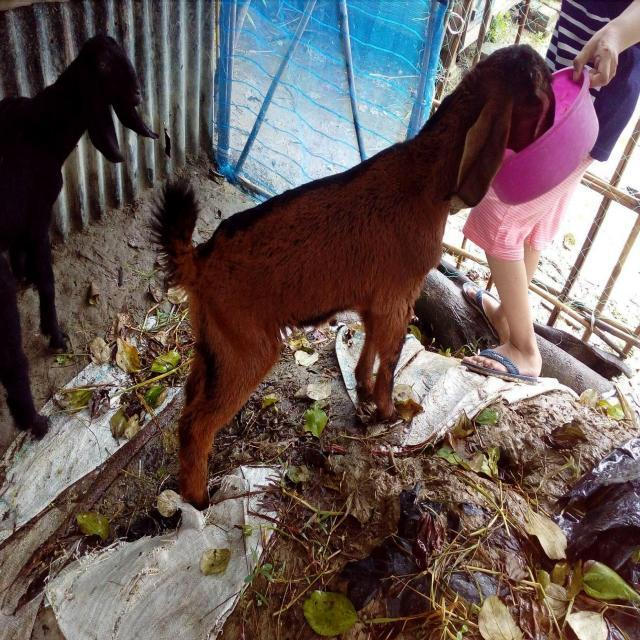Goat: (146, 42, 557, 510), (1, 31, 161, 440)
